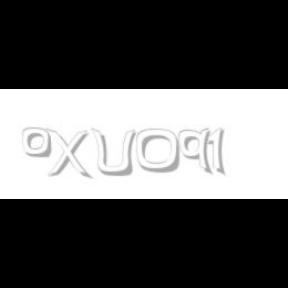1: (204, 128, 226, 176)
O: (136, 128, 180, 174)
U: (90, 128, 136, 178)
X: (46, 128, 90, 180)
o: (22, 128, 51, 158)
q: (178, 128, 214, 176)
